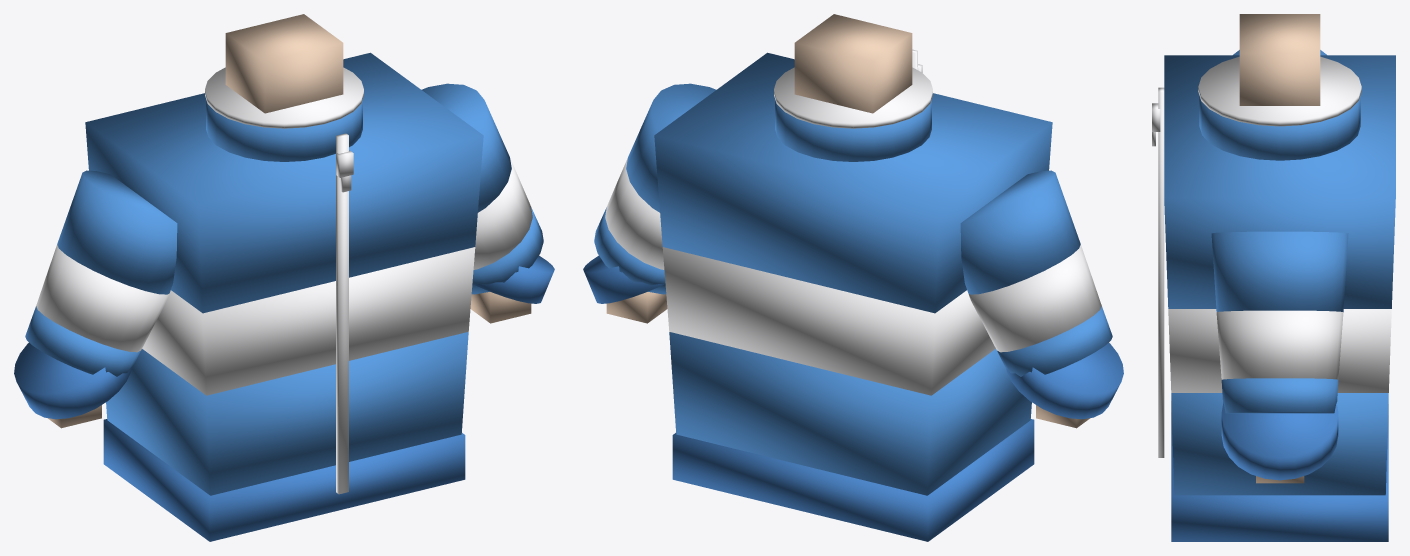
File: row4_02_track_blue.glb
3 views of the same model, side by side, from view 1: azimuth 30°, elevation 25°; view 2: azimuth 150°, elevation 25°; view 3: azimuth 270°, elevation 25° (orthographic). The views are drawn at different scales.
Visible parts, largest first — view 1: Torso_Upper_02_track_blue, Torso_Lower_02_track_blue, Torso_Band_02_track_blue, Hem_02_track_blue, Sleeve_Up_R_02_track_blue, Neck_02_track_blue, Sleeve_Bnd_R_02_track_blue, Collar_02_track_blue, Cuff_R_02_track_blue, Zipper_02_track_blue, Collar_Trim_02_track_blue, Sleeve_Up_L_02_track_blue (+5 smaller); view 2: Torso_Upper_02_track_blue, Torso_Lower_02_track_blue, Torso_Band_02_track_blue, Hem_02_track_blue, Sleeve_Up_R_02_track_blue, Neck_02_track_blue, Sleeve_Bnd_R_02_track_blue, Collar_02_track_blue, Cuff_R_02_track_blue, Collar_Trim_02_track_blue, Sleeve_Up_L_02_track_blue, Sleeve_Bnd_L_02_track_blue (+4 smaller); view 3: Torso_Upper_02_track_blue, Torso_Lower_02_track_blue, Hem_02_track_blue, Sleeve_Up_L_02_track_blue, Torso_Band_02_track_blue, Sleeve_Bnd_L_02_track_blue, Neck_02_track_blue, Cuff_L_02_track_blue, Collar_02_track_blue, Collar_Trim_02_track_blue, Sleeve_Dn_L_02_track_blue, Zipper_02_track_blue.
Boxes of the visible parts, x1,y1,x2,y2 form: Torso_Upper_02_track_blue: (85, 52, 483, 313); Torso_Lower_02_track_blue: (106, 332, 468, 495); Torso_Band_02_track_blue: (142, 247, 475, 395); Hem_02_track_blue: (103, 419, 465, 541); Sleeve_Up_R_02_track_blue: (57, 170, 177, 294); Neck_02_track_blue: (225, 14, 343, 113); Sleeve_Bnd_R_02_track_blue: (36, 244, 169, 352); Collar_02_track_blue: (206, 99, 362, 161); Cuff_R_02_track_blue: (14, 342, 131, 419); Zipper_02_track_blue: (336, 133, 348, 494); Collar_Trim_02_track_blue: (205, 67, 363, 128); Sleeve_Up_L_02_track_blue: (421, 83, 511, 212); Torso_Upper_02_track_blue: (654, 52, 1052, 313); Torso_Lower_02_track_blue: (669, 332, 1031, 495); Torso_Band_02_track_blue: (662, 247, 995, 395); Hem_02_track_blue: (672, 419, 1034, 541); Sleeve_Up_R_02_track_blue: (960, 170, 1080, 294); Neck_02_track_blue: (794, 14, 912, 113); Sleeve_Bnd_R_02_track_blue: (968, 244, 1101, 352); Collar_02_track_blue: (775, 99, 931, 161); Cuff_R_02_track_blue: (1006, 342, 1123, 419); Collar_Trim_02_track_blue: (774, 67, 932, 128); Sleeve_Up_L_02_track_blue: (626, 83, 716, 212); Sleeve_Bnd_L_02_track_blue: (605, 158, 664, 269); Torso_Upper_02_track_blue: (1164, 55, 1395, 308); Torso_Lower_02_track_blue: (1171, 393, 1388, 495); Hem_02_track_blue: (1171, 401, 1388, 541); Sleeve_Up_L_02_track_blue: (1211, 231, 1348, 312); Torso_Band_02_track_blue: (1168, 309, 1391, 392); Sleeve_Bnd_L_02_track_blue: (1216, 310, 1343, 379); Neck_02_track_blue: (1239, 14, 1320, 105); Cuff_L_02_track_blue: (1221, 402, 1338, 480); Collar_02_track_blue: (1199, 95, 1360, 160); Collar_Trim_02_track_blue: (1198, 56, 1361, 126); Sleeve_Dn_L_02_track_blue: (1221, 378, 1338, 413); Zipper_02_track_blue: (1158, 87, 1164, 457).
Bounding box in the file's own units: 0.6157 × 0.487 × 0.242.
